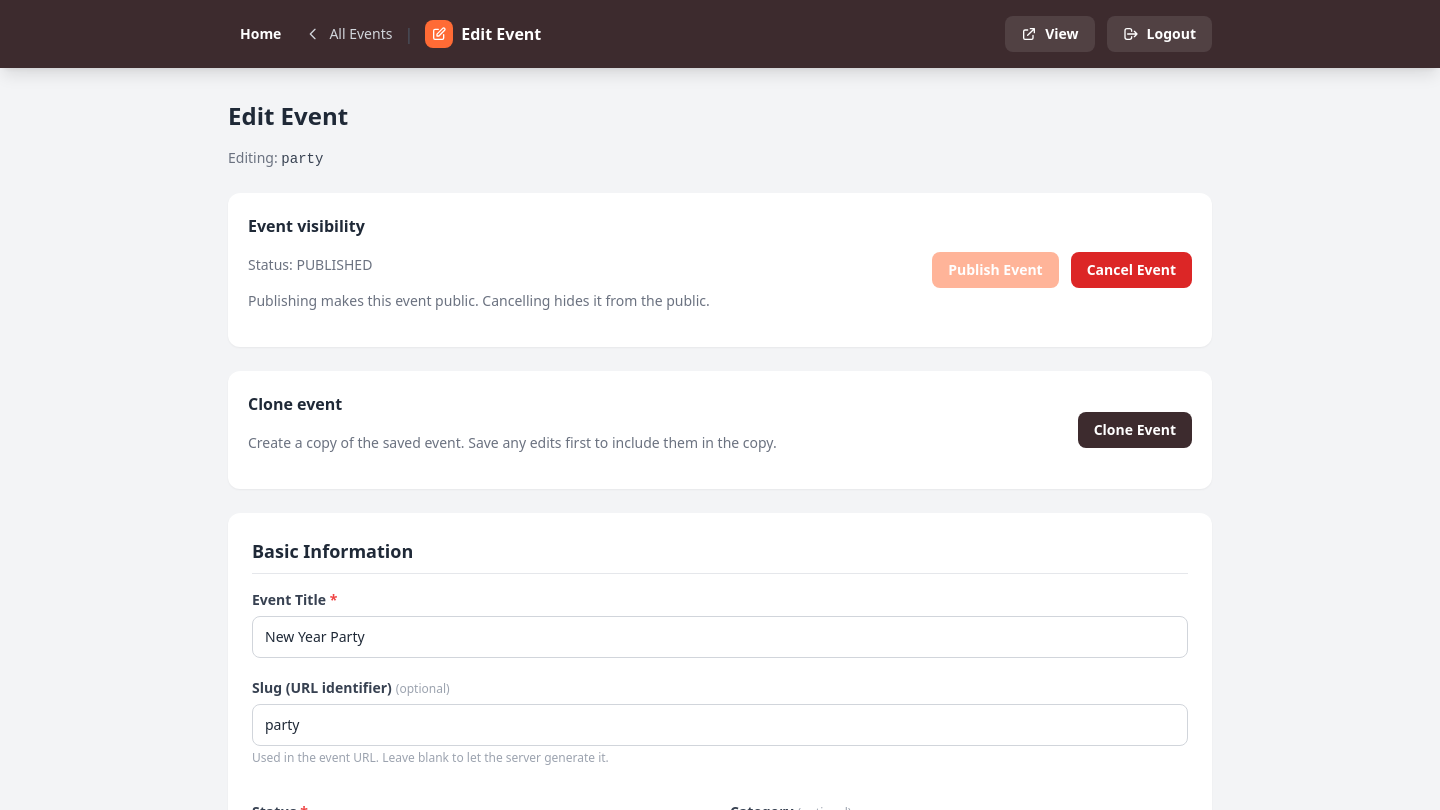
it: AdminEventEdit › AdminEventEdit clones saved events and opens their copy
Click the button "Clone Event": (1135, 430) [1078,412,1192,448]
(page scrolled)
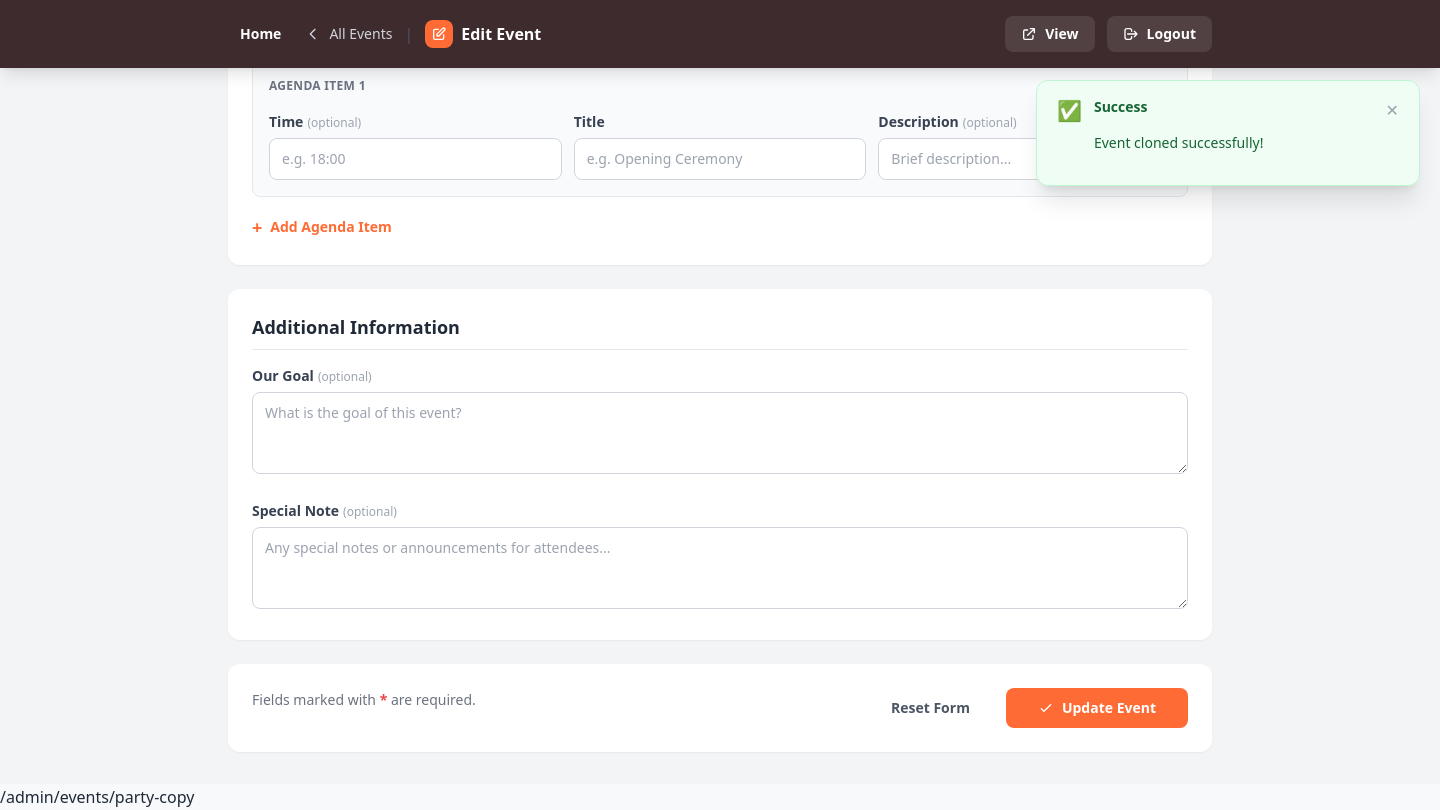
Result: the text with test id "location" reads "/admin/events/party-copy" at [0,786,194,808]
